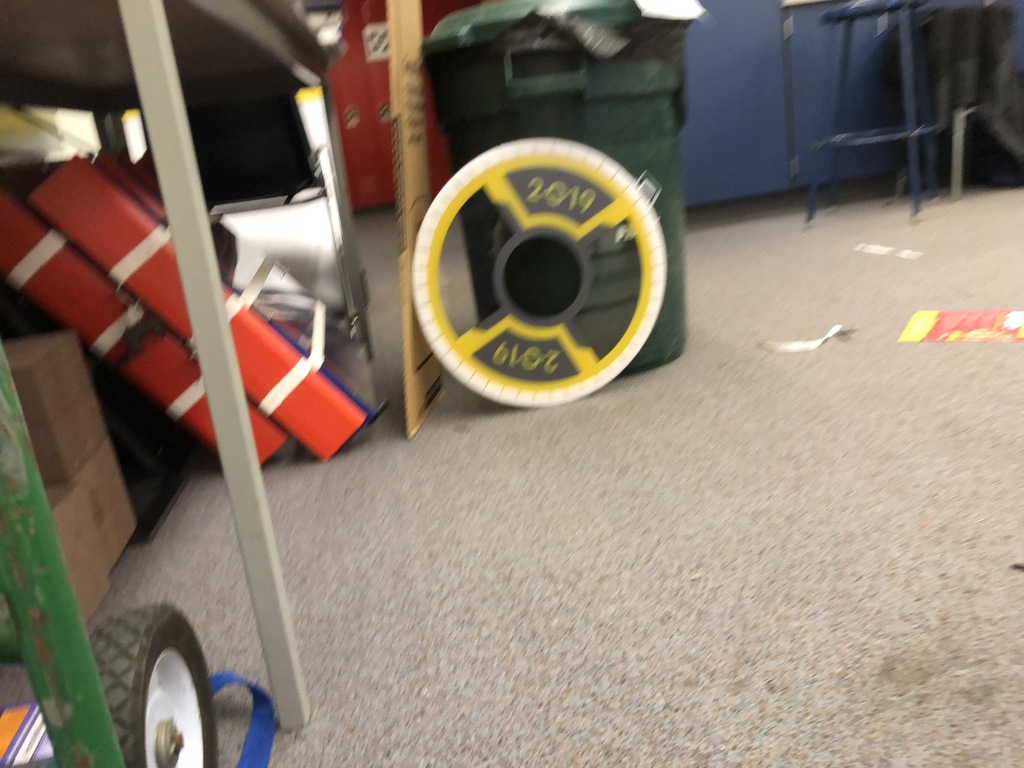hatch_panel: (401, 126, 691, 419)
